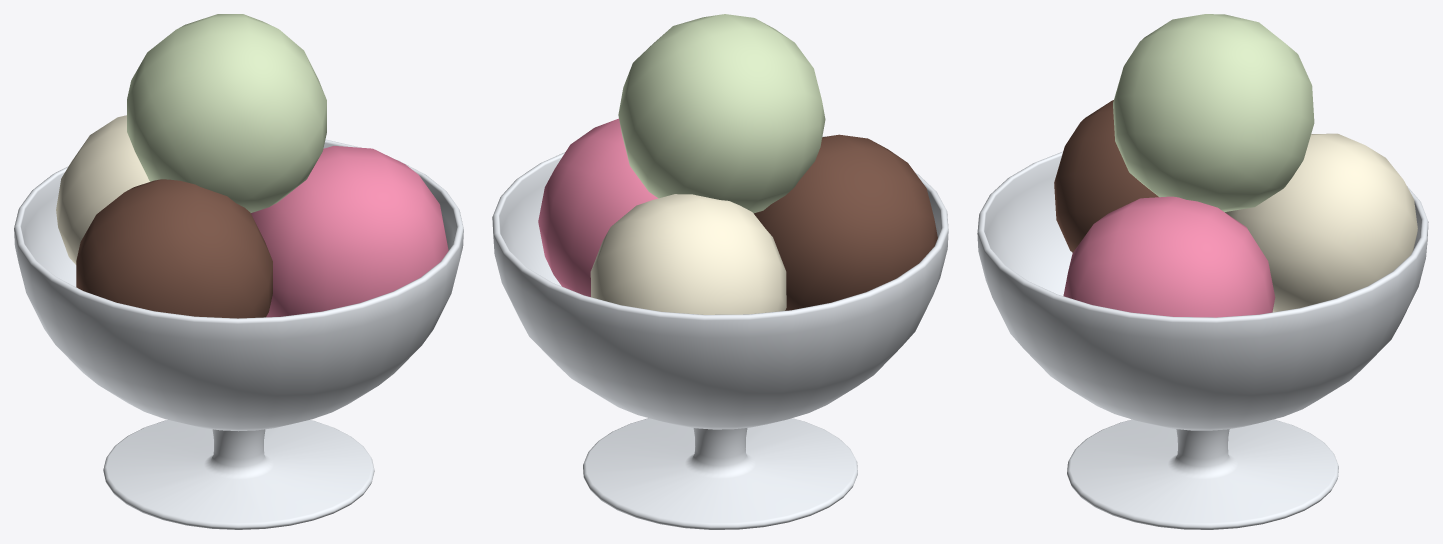
Rendered from ice_cream.glb.
The picture shows the model from 3 angles, left to right: view 1: azimuth 30°, elevation 25°; view 2: azimuth 150°, elevation 25°; view 3: azimuth 270°, elevation 25°; orthographic projection.
Parts seen in each view (by area): view 1: Sphere.496; view 2: Sphere.496; view 3: Sphere.496.
Boxes of the visible parts, box(x1,y1,x2,y2) form: Sphere.496: box(14, 14, 463, 529); Sphere.496: box(492, 14, 948, 529); Sphere.496: box(977, 14, 1428, 529).
Size of the model in its own units: 2 by 2.19 by 2.
Materials: 2 (1 with a texture image).
